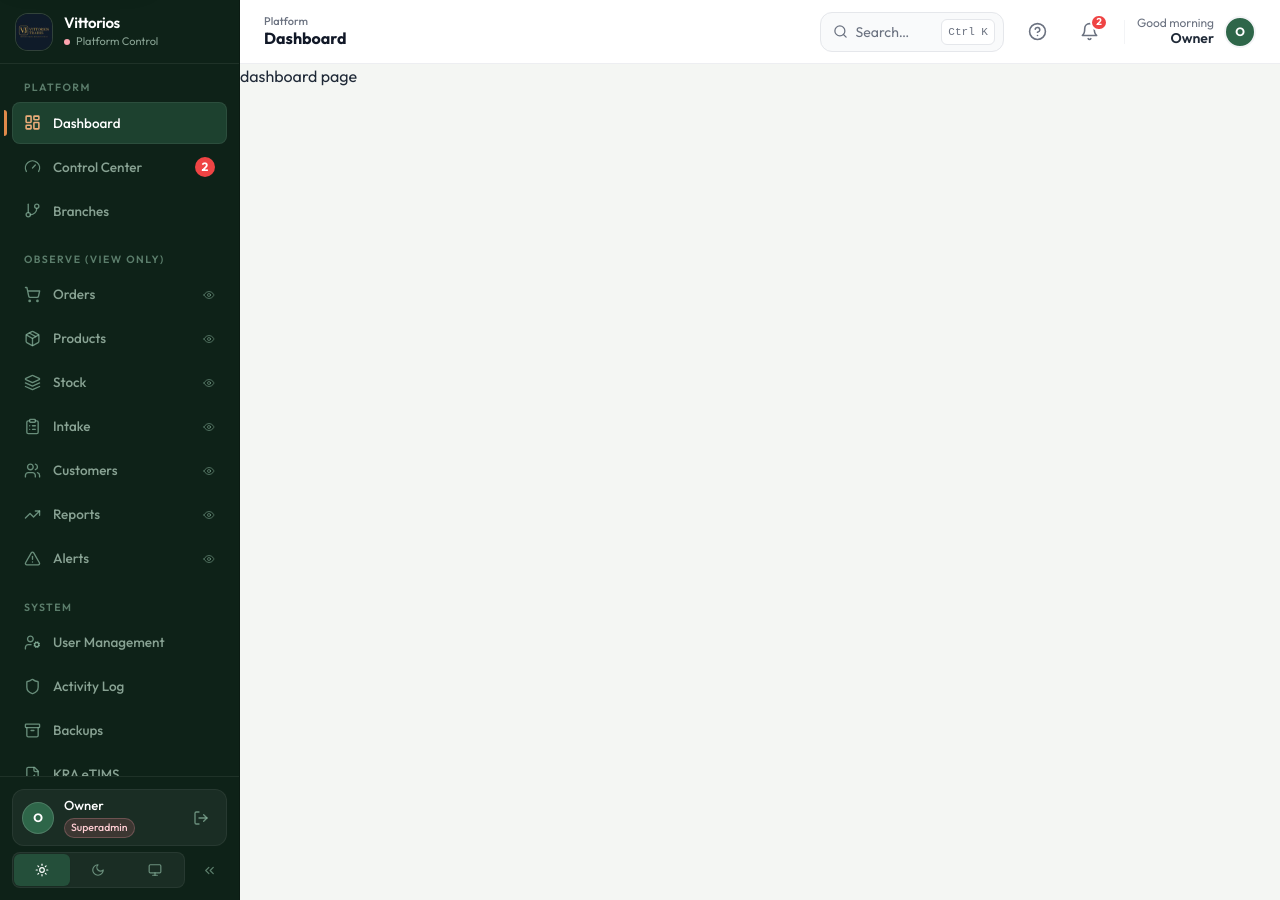
Test: AdminLayout — alerts › the superadmin bell is fed by the Control Center attention list, not the order queue
Click the button named "alerts, 2 need attention". click: (1090, 32)
box: [1068,10,1112,54]
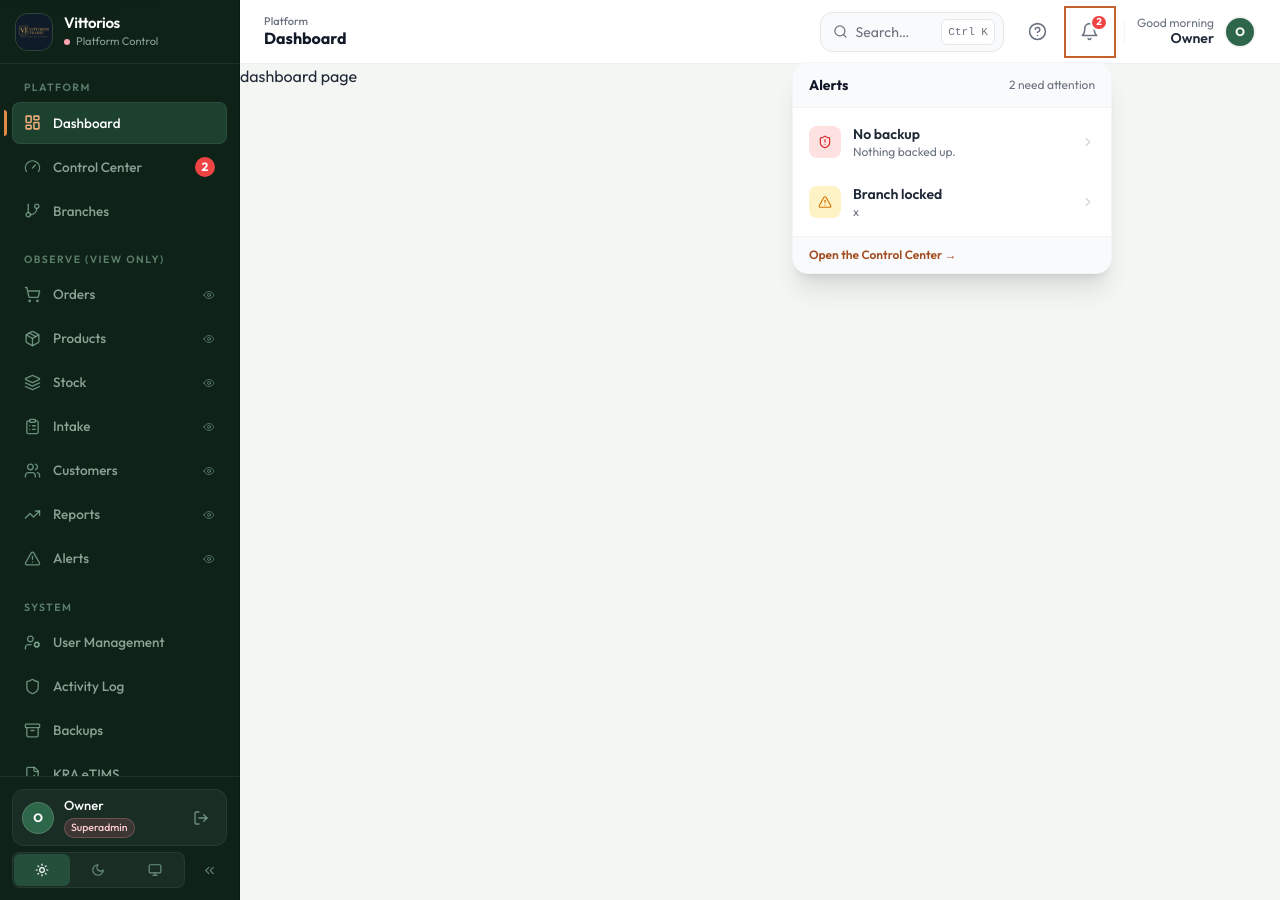
Expected: the link "Control Center 2" is shown, [24,157,215,177]
Expected: the text "No backup" is shown, [853,124,920,142]
